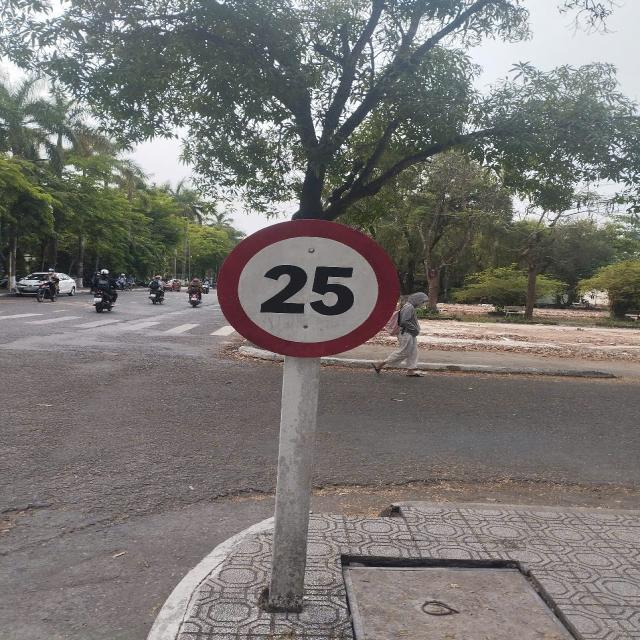Tre_Em: (214, 220, 402, 360)
